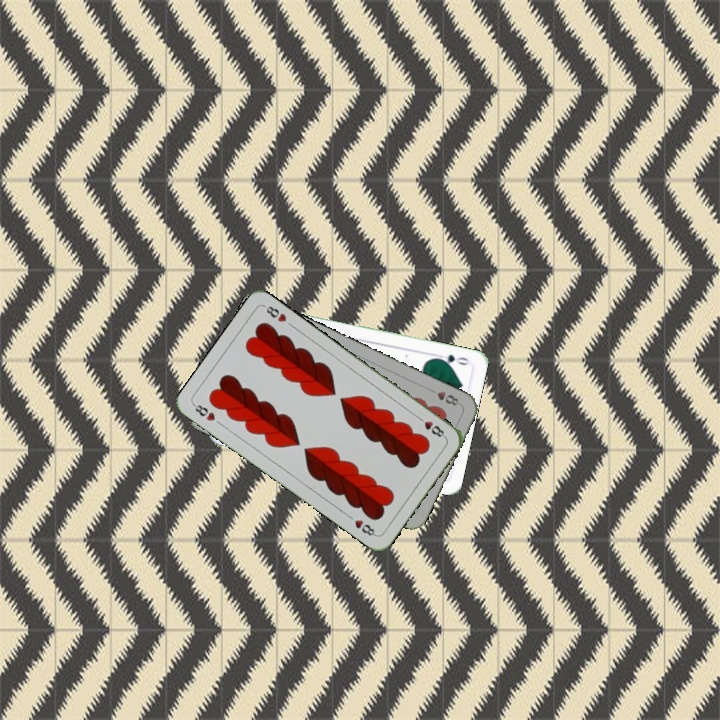GO: (431, 350, 471, 368)
H8: (413, 412, 448, 440), (425, 385, 461, 408), (189, 400, 218, 424)
